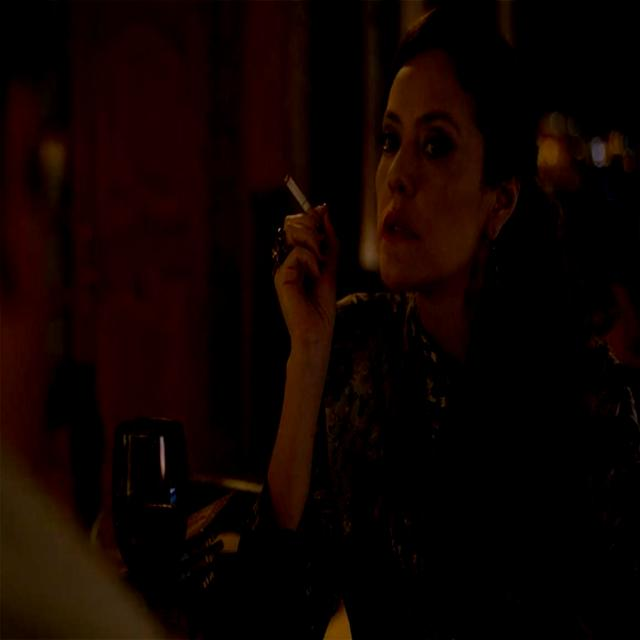Smooking: (280, 170, 320, 231)
